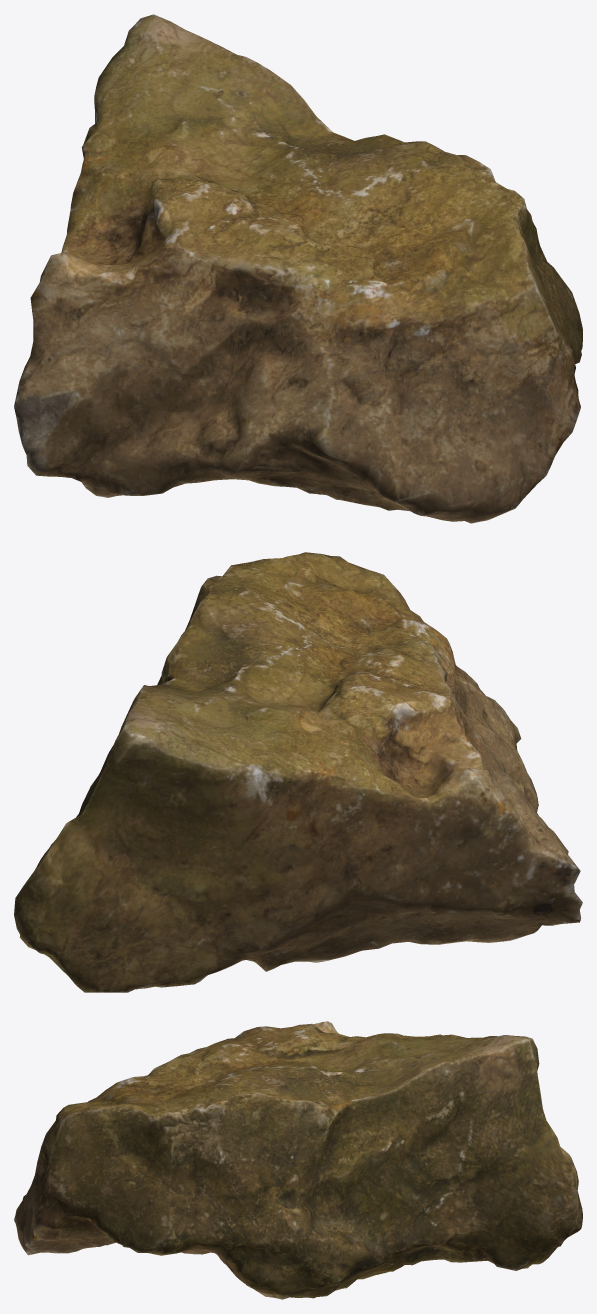
Rendered from Roccia3.fbx.
The picture shows the model from 3 angles, top to bottom: view 1: azimuth 30°, elevation 25°; view 2: azimuth 150°, elevation 25°; view 3: azimuth 270°, elevation 25°; orthographic projection. The views are drawn at different scales.
Parts seen in each view (by area): view 1: moss rock 07; view 2: moss rock 07; view 3: moss rock 07.
Boxes of the visible parts, <box> form: moss rock 07: <box>14,14,582,523</box>; moss rock 07: <box>14,552,582,992</box>; moss rock 07: <box>14,1021,582,1299</box>.
Bounding box in the file's own units: 170 × 102 × 221.
